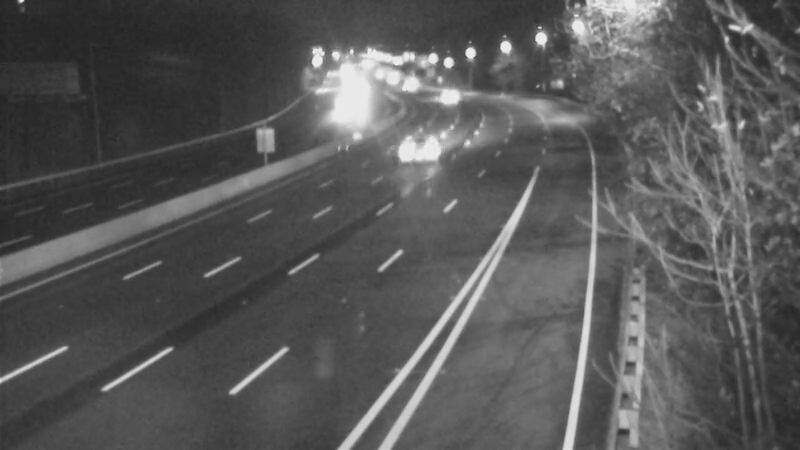vehicle: (352, 48, 402, 98), (382, 58, 432, 108), (417, 68, 467, 118), (404, 123, 454, 173), (312, 89, 362, 139)
